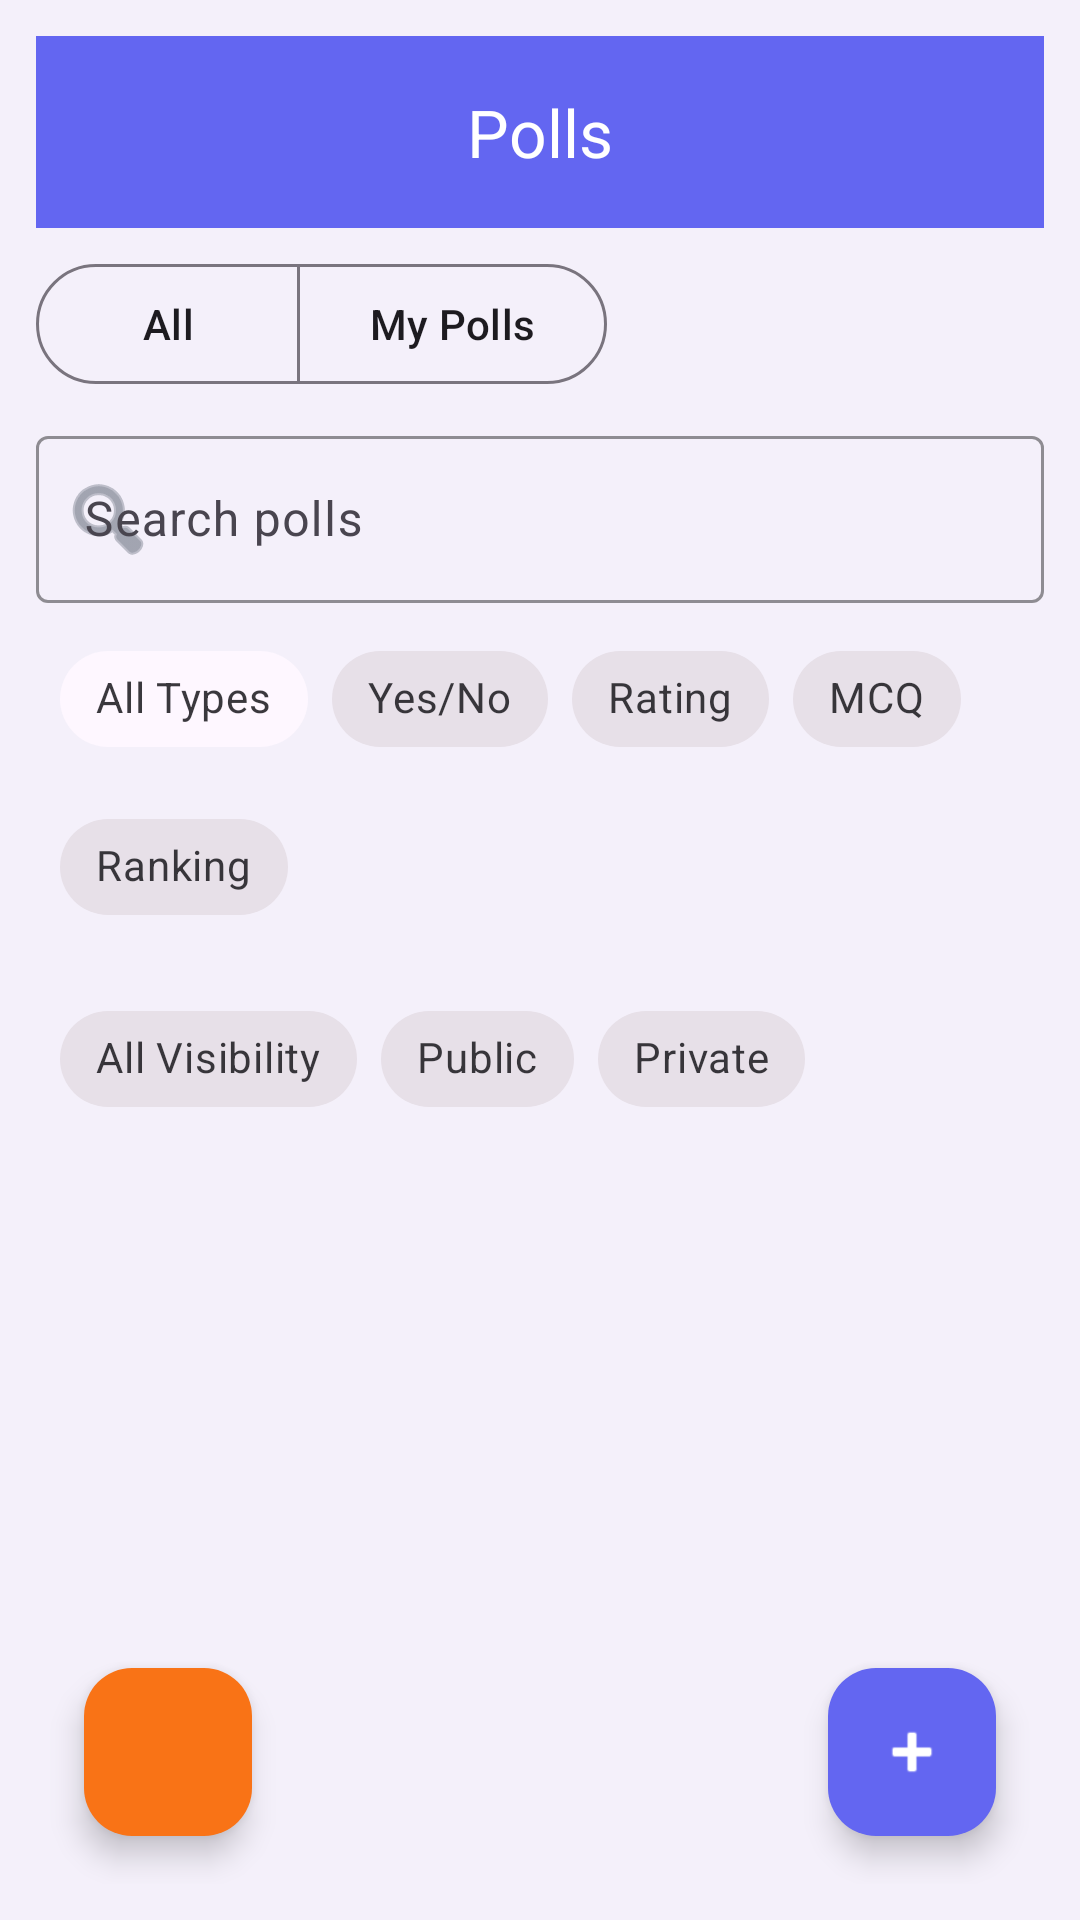

Icons on this 1080×1920 Android screen, each with the point to tap as [x,y]:
Create poll: [912,1752]
